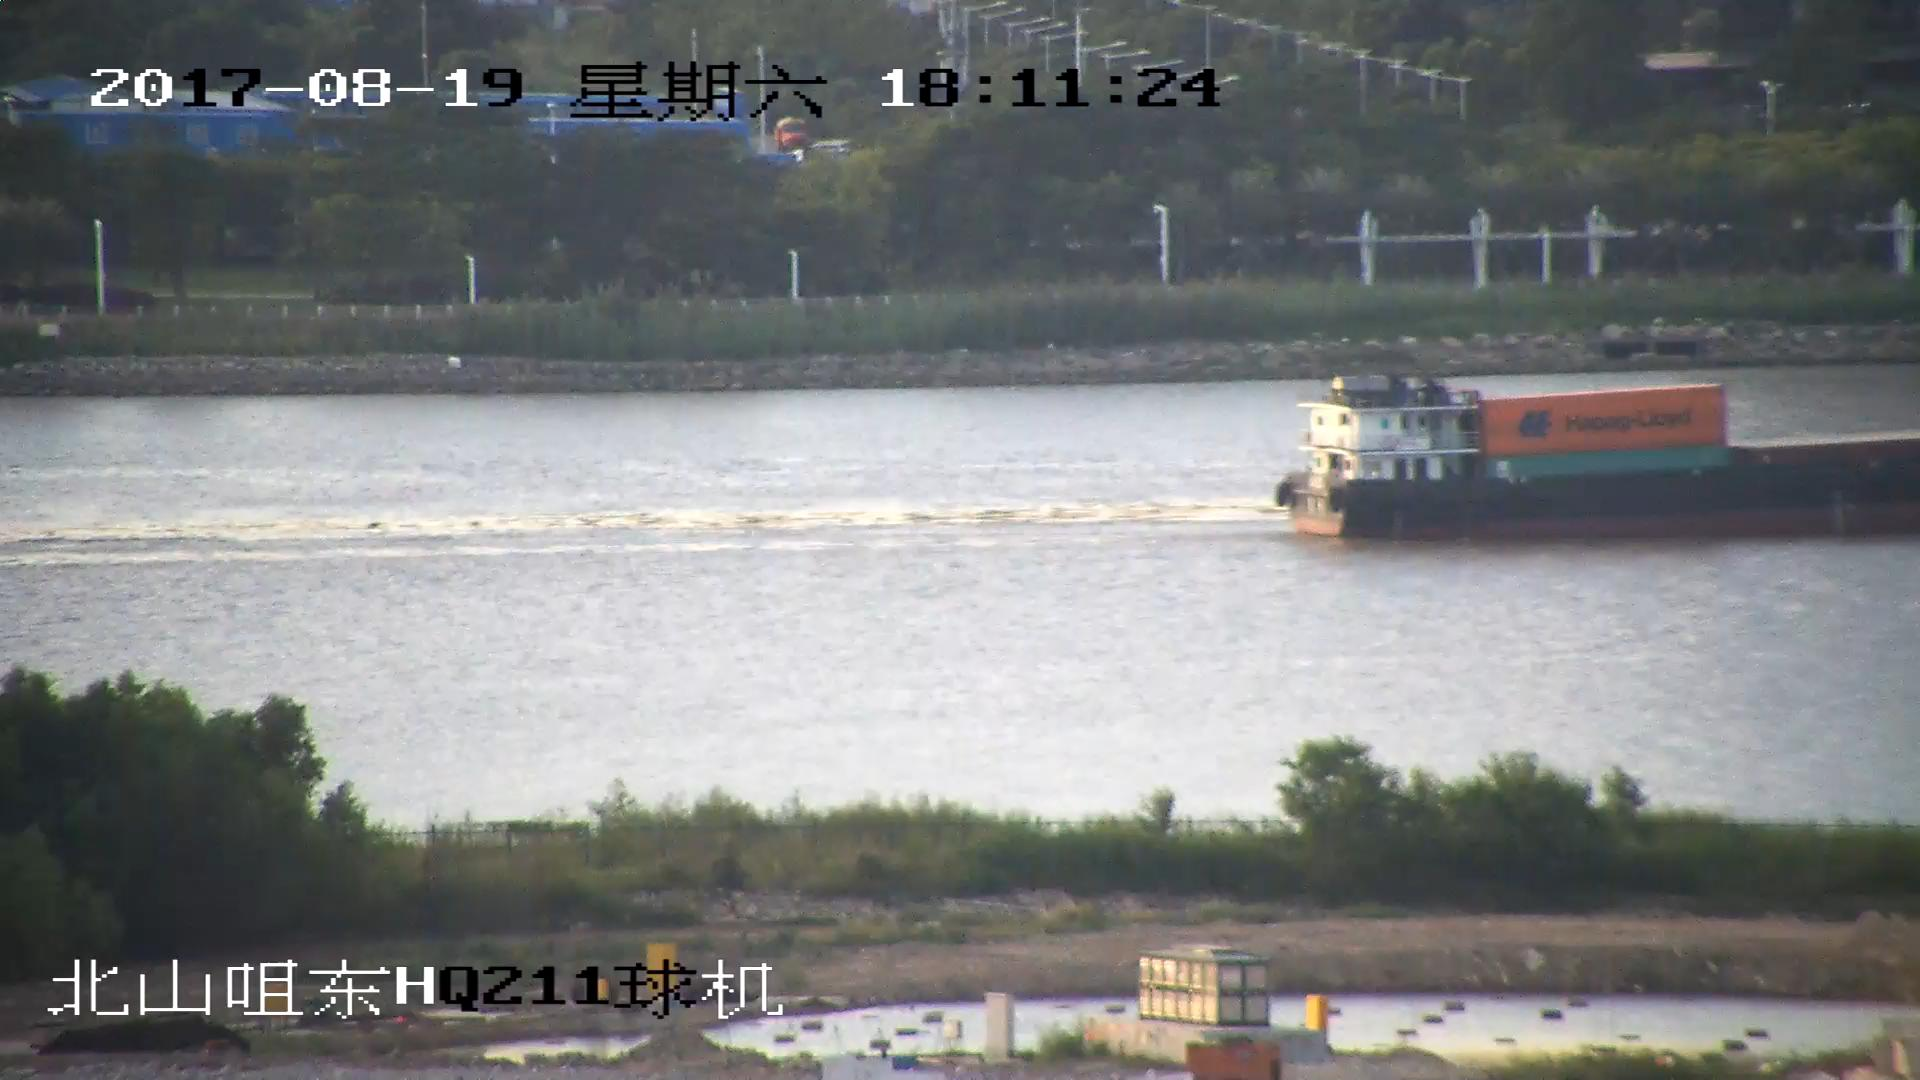container ship: (1273, 377, 1920, 540)
